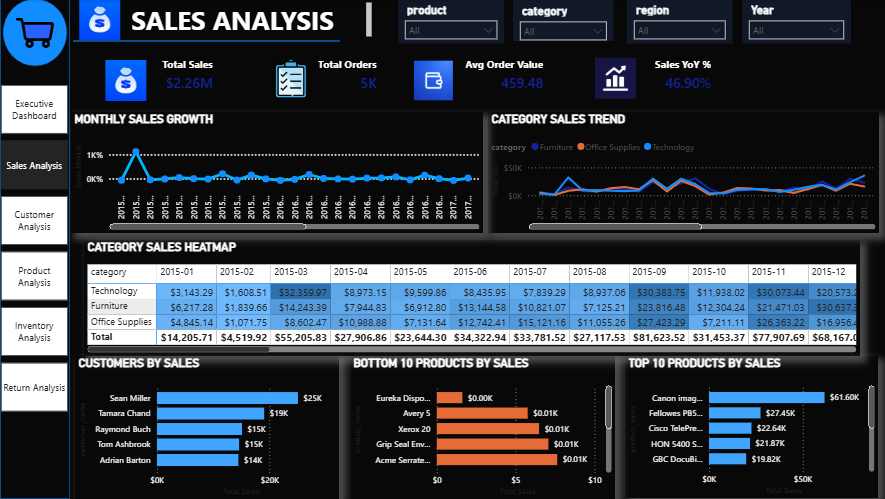

The page's visual inventory and layout, read from the dashboard file:
{"tool":"powerbi","page":{"name":"Sales Analysis","canvas":[1280,720],"ordinal":1},"visuals":[{"type":"slicer","fields":{"Values":["DimDate.Year"]},"box":[1067.8,0,156.6,64],"z":0},{"type":"cardVisual","fields":{"Data":["DimDate.Total Orders"]},"box":[351.4,63.4,220.3,99.4],"z":1000},{"type":"cardVisual","fields":{"Data":["DimDate.Total Sales"]},"box":[135.4,63.4,200.2,99.4],"z":2000},{"type":"cardVisual","fields":{"Data":["DimDate.Average Order Value"]},"box":[593.3,63.4,218.9,99.4],"z":3000},{"type":"slicer","fields":{"Values":["public orders.region"]},"box":[902.7,0,151.6,64],"z":4000},{"type":"slicer","fields":{"Values":["public products.category"]},"box":[739.4,1.7,144.8,58.9],"z":5000},{"type":"slicer","fields":{"Values":["public products.product_name"]},"box":[572.6,0,153.3,64],"z":6000},{"type":"lineChart","title":"MONTHLY SALES GROWTH","fields":{"Category":["DimDate.Year Month"],"Y":["DimDate.Sales MoM %"]},"box":[102.2,162.7,593.3,174.2],"z":7000},{"type":"lineChart","title":"CATEGORY SALES TREND","fields":{"Category":["DimDate.Year Month"],"Y":["DimDate.Total Sales"],"Series":["public products.category"]},"box":[702.7,162.7,563,174.2],"z":8000},{"type":"clusteredBarChart","title":"TOP 10 PRODUCTS BY SALES","fields":{"Category":["public products.product_name"],"Y":["DimDate.Total Sales"]},"box":[900,514.1,364.3,204.5],"z":9000},{"type":"clusteredBarChart","title":"CUSTOMERS BY SALES","fields":{"Category":["public customers.customer_name"],"Y":["DimDate.Total Sales"]},"box":[108,514.1,380.2,205.9],"z":10000},{"type":"pivotTable","title":"CATEGORY SALES HEATMAP","fields":{"Rows":["public products.category"],"Columns":["DimDate.Year Month"],"Values":["DimDate.Total Sales"]},"box":[121,347,1117.4,167],"z":11000},{"type":"textbox","box":[102.7,0,437.9,74.1],"z":12000},{"type":"shape","box":[104.4,35.4,384,48.8],"z":13000},{"type":"shape","box":[0,0,100.8,720],"z":14000},{"type":"shape","box":[4.3,0,92.2,96.5],"z":15000},{"type":"image","box":[149.8,87.8,63.4,59],"z":19000},{"type":"image","box":[385.7,84.2,65.7,62.3],"z":20000},{"type":"image","box":[596.2,87.8,56.2,59],"z":21000},{"type":"image","box":[13,17.3,74.9,63.4],"z":22000},{"type":"pageNavigator","box":[1.4,123.8,96.5,472.3],"z":23000},{"type":"cardVisual","fields":{"Data":["DimDate.Sales YoY %"]},"box":[835.2,63.4,218.9,99.4],"z":24000},{"type":"clusteredBarChart","title":"BOTTOM 10 PRODUCTS BY SALES","fields":{"Category":["public products.product_name"],"Y":["DimDate.Total Sales"]},"box":[504,514.1,381.6,205.9],"z":25000},{"type":"image","box":[856.8,80.6,59,66.2],"z":27000},{"type":"image","box":[104.4,0,77.5,58.9],"z":27001}]}

Visuals, with their boxes in screenshot pixels (x1, y1, x2, y2), scaled from the page's 1280x720 canvas onto the 885x499 screenshot:
slicer - DimDate.Year: l=738, t=0, r=847, b=44
cardVisual - DimDate.Total Orders: l=243, t=44, r=395, b=113
cardVisual - DimDate.Total Sales: l=94, t=44, r=232, b=113
cardVisual - DimDate.Average Order Value: l=410, t=44, r=562, b=113
slicer - public orders.region: l=624, t=0, r=729, b=44
slicer - public products.category: l=511, t=1, r=611, b=42
slicer - public products.product_name: l=396, t=0, r=502, b=44
"MONTHLY SALES GROWTH" lineChart: l=71, t=113, r=481, b=233
"CATEGORY SALES TREND" lineChart: l=486, t=113, r=875, b=233
"TOP 10 PRODUCTS BY SALES" clusteredBarChart: l=622, t=356, r=874, b=498
"CUSTOMERS BY SALES" clusteredBarChart: l=75, t=356, r=338, b=498
"CATEGORY SALES HEATMAP" pivotTable: l=84, t=240, r=856, b=356
textbox: l=71, t=0, r=374, b=51
shape: l=72, t=25, r=338, b=58
shape: l=0, t=0, r=70, b=498
shape: l=3, t=0, r=67, b=67
image: l=104, t=61, r=147, b=102
image: l=267, t=58, r=312, b=102
image: l=412, t=61, r=451, b=102
image: l=9, t=12, r=61, b=56
pageNavigator: l=1, t=86, r=68, b=413
cardVisual - DimDate.Sales YoY %: l=577, t=44, r=729, b=113
"BOTTOM 10 PRODUCTS BY SALES" clusteredBarChart: l=348, t=356, r=612, b=498
image: l=592, t=56, r=633, b=102
image: l=72, t=0, r=126, b=41
